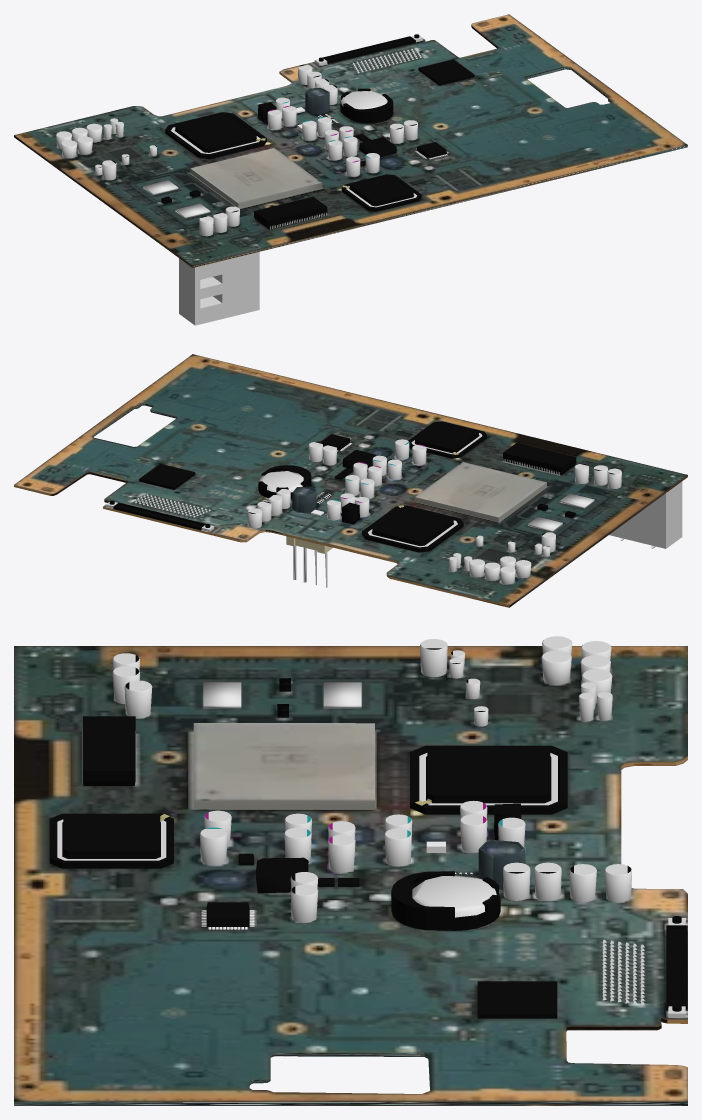
File: td-board_lod2.glb
The picture shows the model from 3 angles, top to bottom: view 1: azimuth 30°, elevation 25°; view 2: azimuth 150°, elevation 25°; view 3: azimuth 270°, elevation 25°; orthographic projection. The views are drawn at different scales.
Parts seen in each view (by area): view 1: body; view 2: body; view 3: body.
Part boxes in pixels (x1,y1,x2,y2): body: (14, 14, 687, 325); body: (14, 354, 687, 607); body: (14, 636, 687, 1105).
Size of the model in its own units: 0.24 by 0.0393 by 0.15.
Materials: 9 (2 with a texture image).
